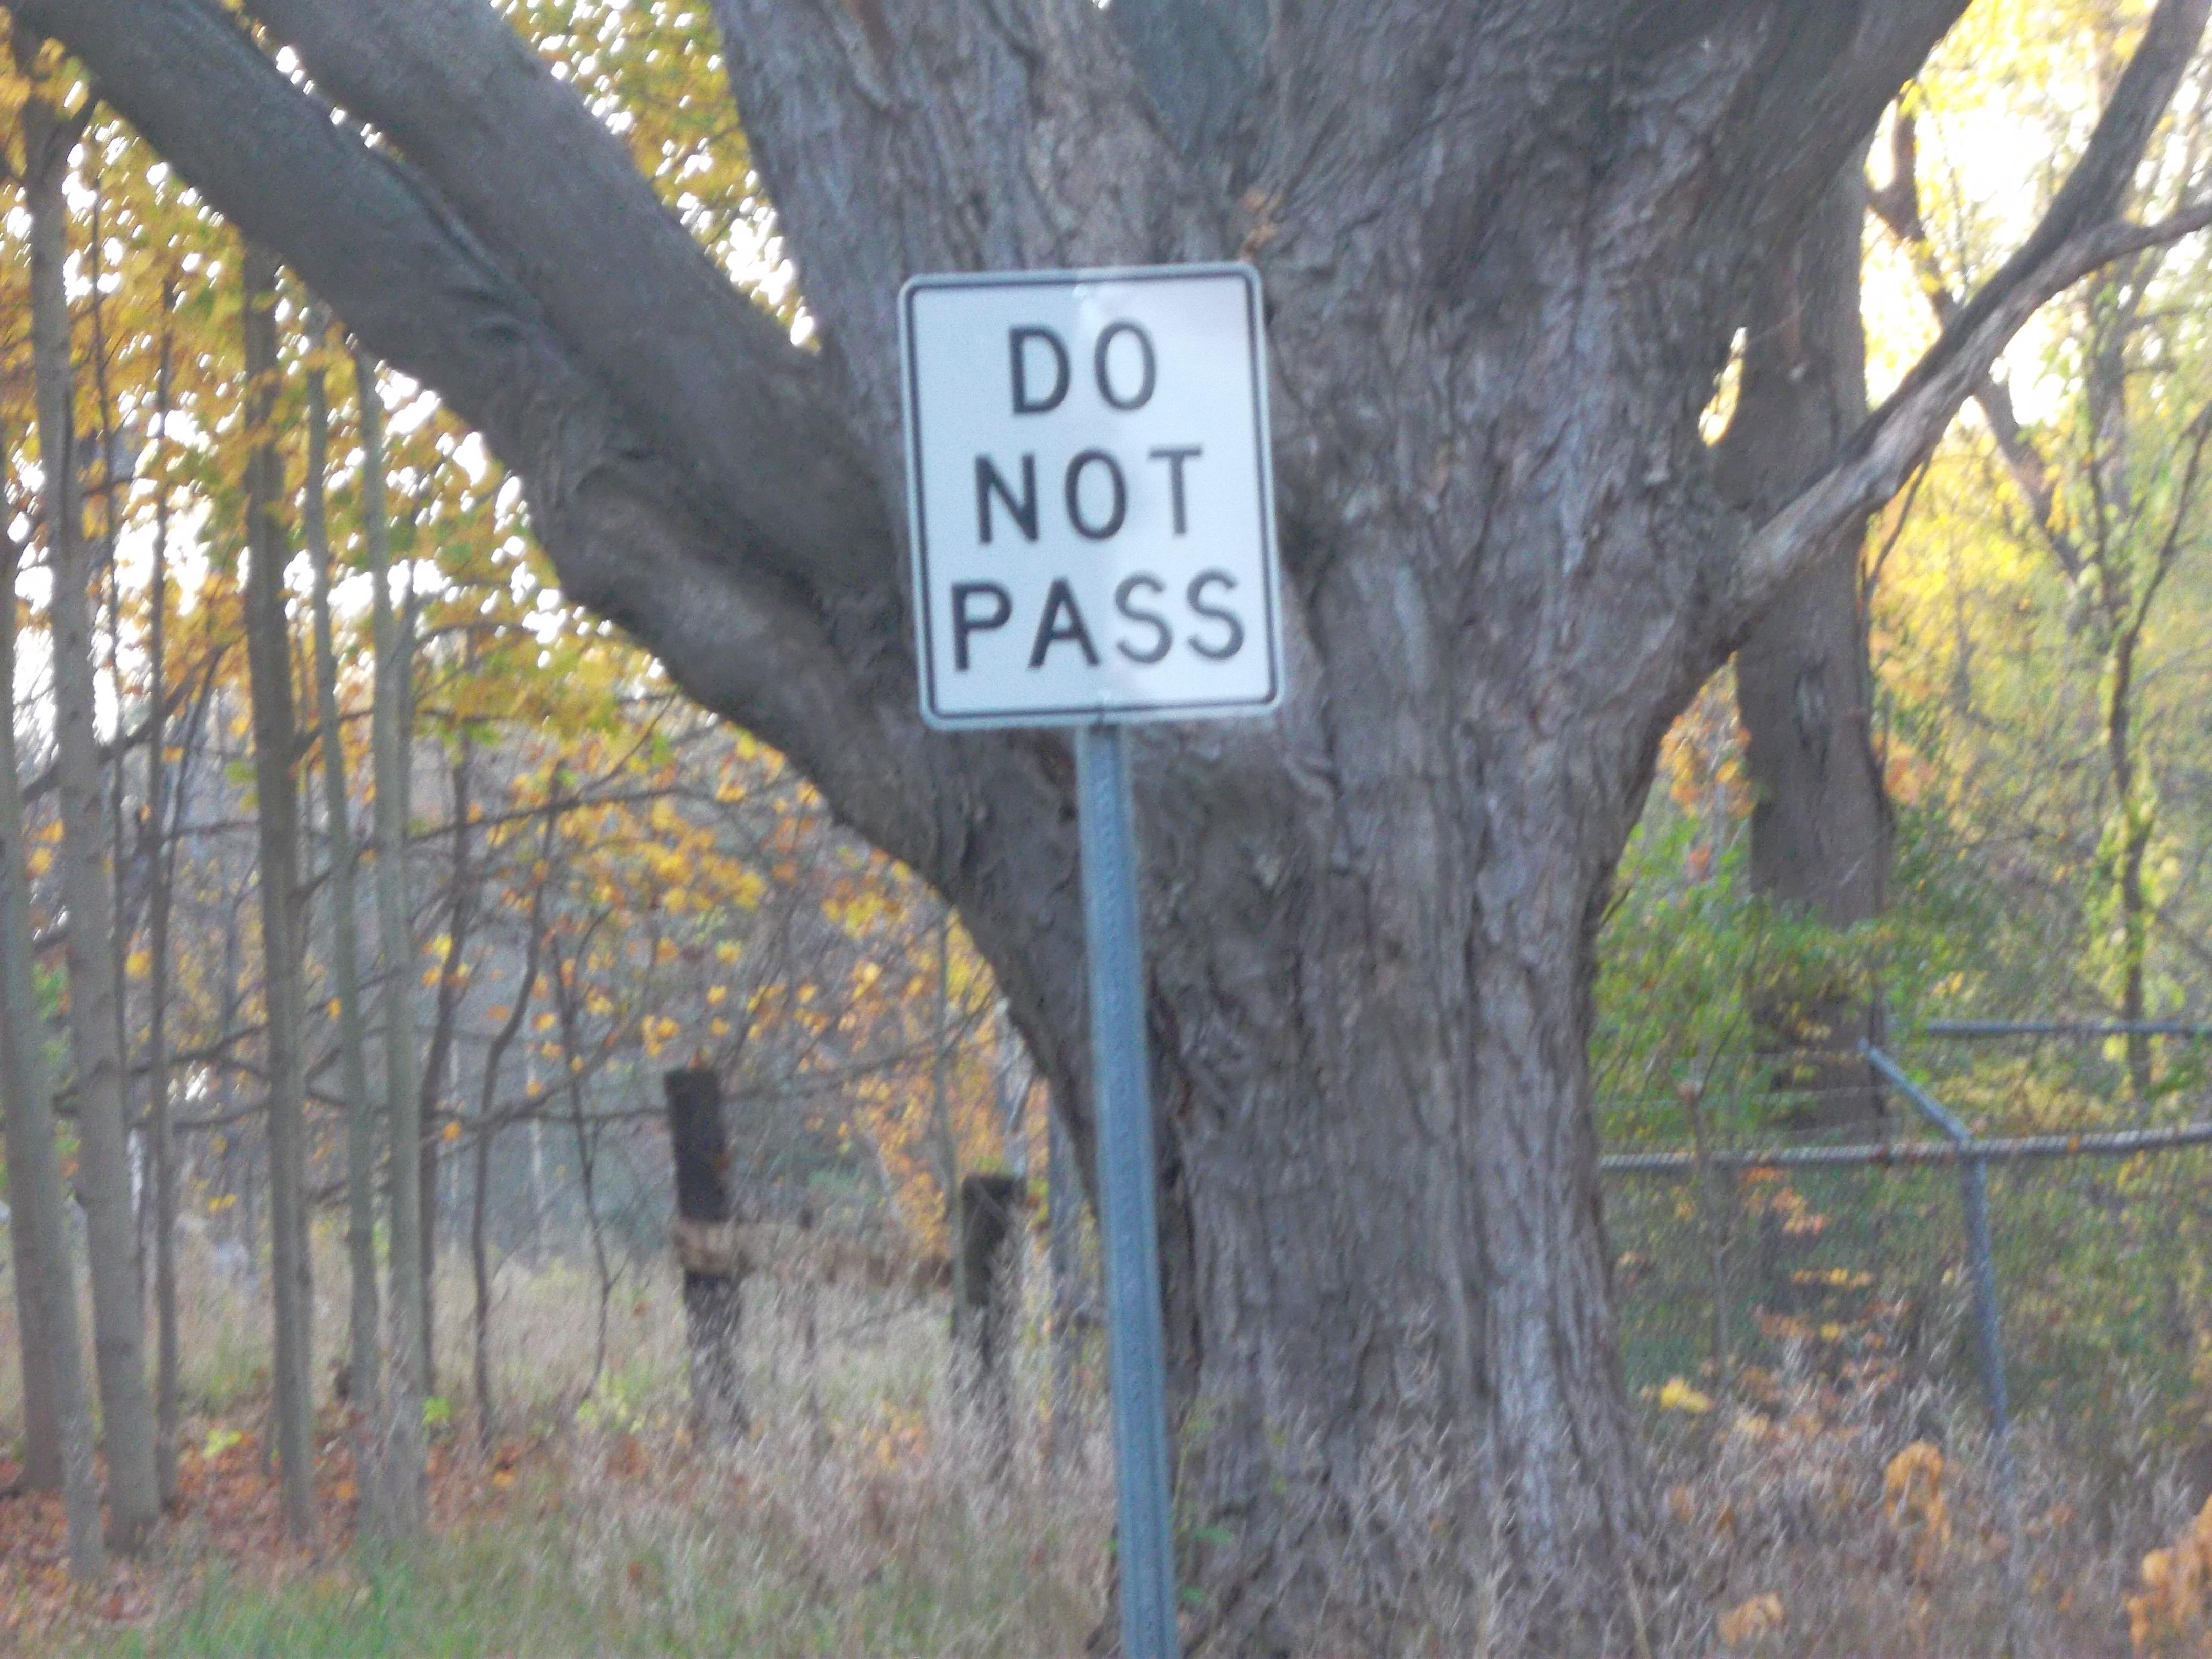regulatory: (887, 260, 1294, 737)
